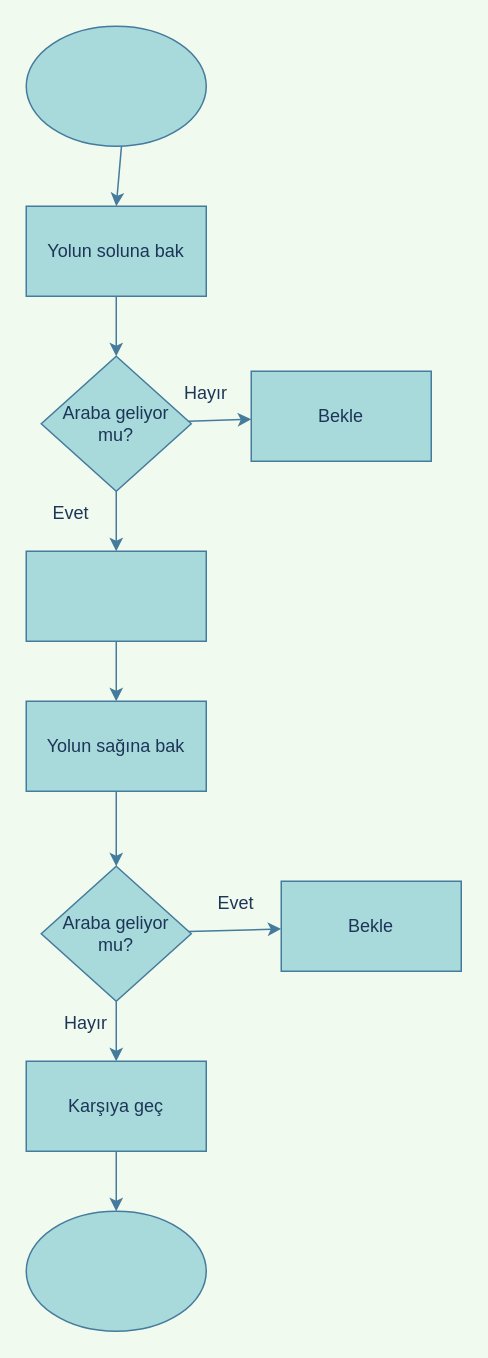
Some shapes in this 488 by 1358 pixel diagram are drawn without their labels. The shapes that lost their labels are listed below. From the top down, each one's centre as x and y in pixels, then its label:
At point 115,85: "Başla".
At point 115,595: "Refüje geç".
At point 115,1270: "Bitti".
